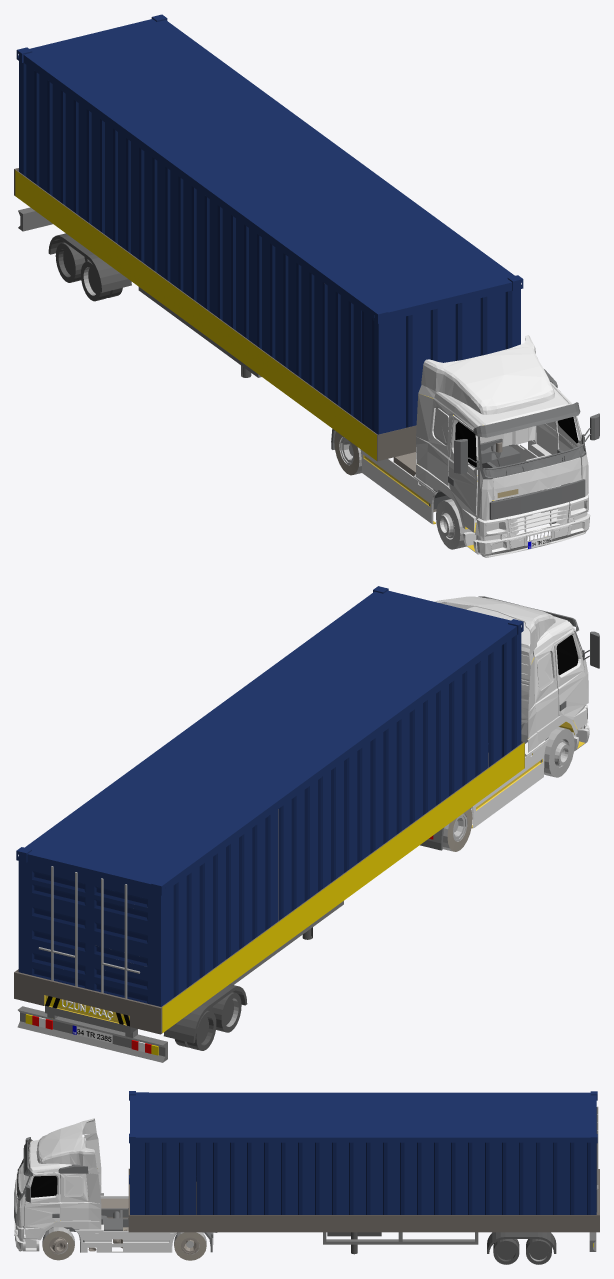
File: container_truck.glb
3 views of the same model, one above another, from view 1: azimuth 30°, elevation 25°; view 2: azimuth 150°, elevation 25°; view 3: azimuth 270°, elevation 25° (orthographic). The views are drawn at different scales.
Visible parts, largest first — view 1: Object_17, Object_71, Object_19, Object_51, Object_65, Object_72, Object_43, Object_35, Wheel_FR, Object_40, Wheel_RR3, Wheel_RR1 (+2 smaller); view 2: Object_17, Object_19, Object_51, Object_71, Object_43, Object_40, Object_18, Object_35, Wheel_FR, Object_65, Object_72, Wheel_RR2 (+3 smaller); view 3: Object_17, Object_19, Object_43, Object_71, Object_65, Object_72, Object_40, Wheel_RL1, Wheel_FL, Object_29, Wheel_RL2, Wheel_RL3 (+4 smaller).
Boxes of the visible parts, left/top/right/bottom form: Object_17: left=16, top=14, right=523, bottom=434; Object_71: left=360, top=335, right=590, bottom=557; Object_19: left=23, top=63, right=512, bottom=431; Object_51: left=15, top=170, right=376, bottom=460; Object_65: left=331, top=369, right=599, bottom=519; Object_72: left=416, top=393, right=589, bottom=554; Object_43: left=14, top=168, right=416, bottom=461; Object_35: left=48, top=233, right=131, bottom=292; Wheel_FR: left=436, top=499, right=472, bottom=549; Object_40: left=18, top=207, right=261, bottom=377; Wheel_RR3: left=55, top=242, right=89, bottom=282; Wheel_RR1: left=334, top=431, right=361, bottom=475; Object_17: left=16, top=586, right=523, bottom=1006; Object_19: left=32, top=634, right=516, bottom=1003; Object_51: left=45, top=742, right=524, bottom=1032; Object_71: left=434, top=596, right=589, bottom=828; Object_43: left=14, top=741, right=524, bottom=1034; Object_40: left=17, top=901, right=343, bottom=1062; Object_18: left=38, top=866, right=140, bottom=998; Object_35: left=163, top=984, right=247, bottom=1043; Wheel_FR: left=544, top=727, right=574, bottom=777; Object_65: left=420, top=596, right=599, bottom=850; Object_72: left=527, top=658, right=589, bottom=752; Wheel_RR2: left=207, top=992, right=241, bottom=1032; Object_17: left=129, top=1091, right=597, bottom=1214; Object_19: left=145, top=1142, right=590, bottom=1214; Object_43: left=128, top=1168, right=599, bottom=1232; Object_71: left=14, top=1118, right=177, bottom=1252; Object_65: left=14, top=1137, right=217, bottom=1252; Object_72: left=15, top=1133, right=101, bottom=1251; Object_40: left=323, top=1232, right=596, bottom=1251; Wheel_RL1: left=174, top=1232, right=206, bottom=1260; Wheel_FL: left=42, top=1227, right=74, bottom=1260; Object_29: left=487, top=1232, right=556, bottom=1253; Wheel_RL2: left=493, top=1239, right=519, bottom=1264; Wheel_RL3: left=526, top=1239, right=551, bottom=1264.
Bounding box in the file's own units: 2.73 × 3.52 × 14.52.
